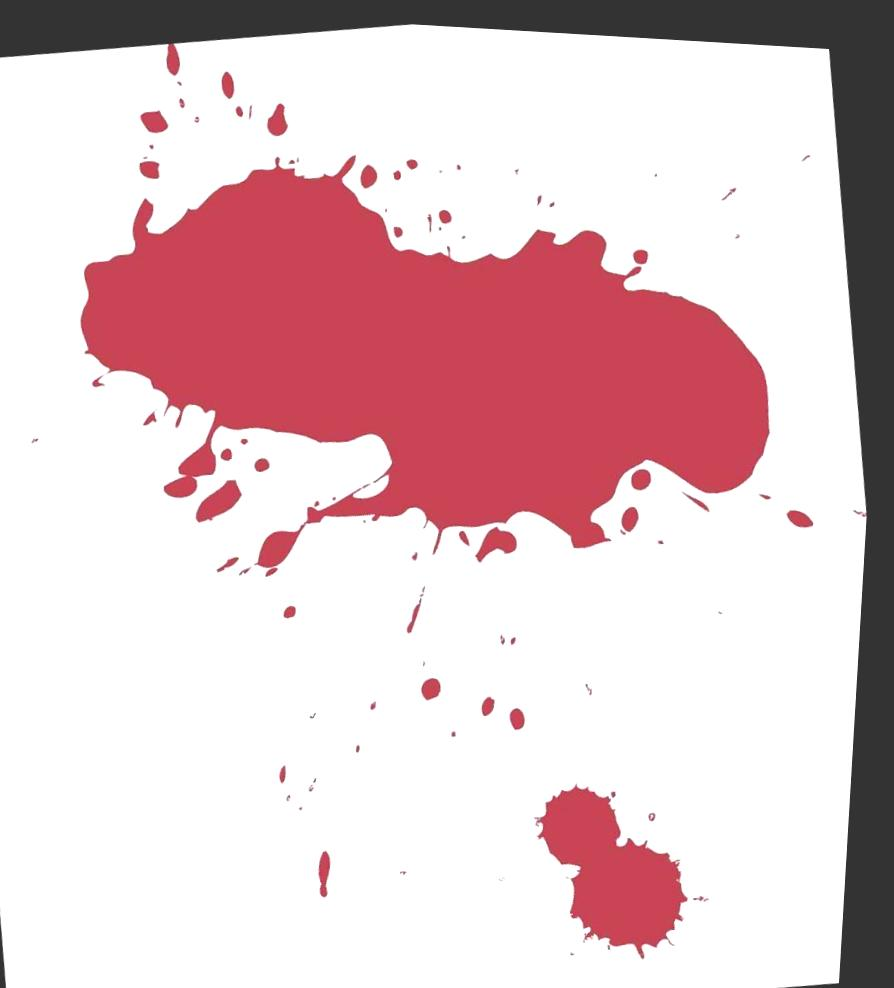Fire: (84, 149, 775, 573), (544, 774, 699, 951)
